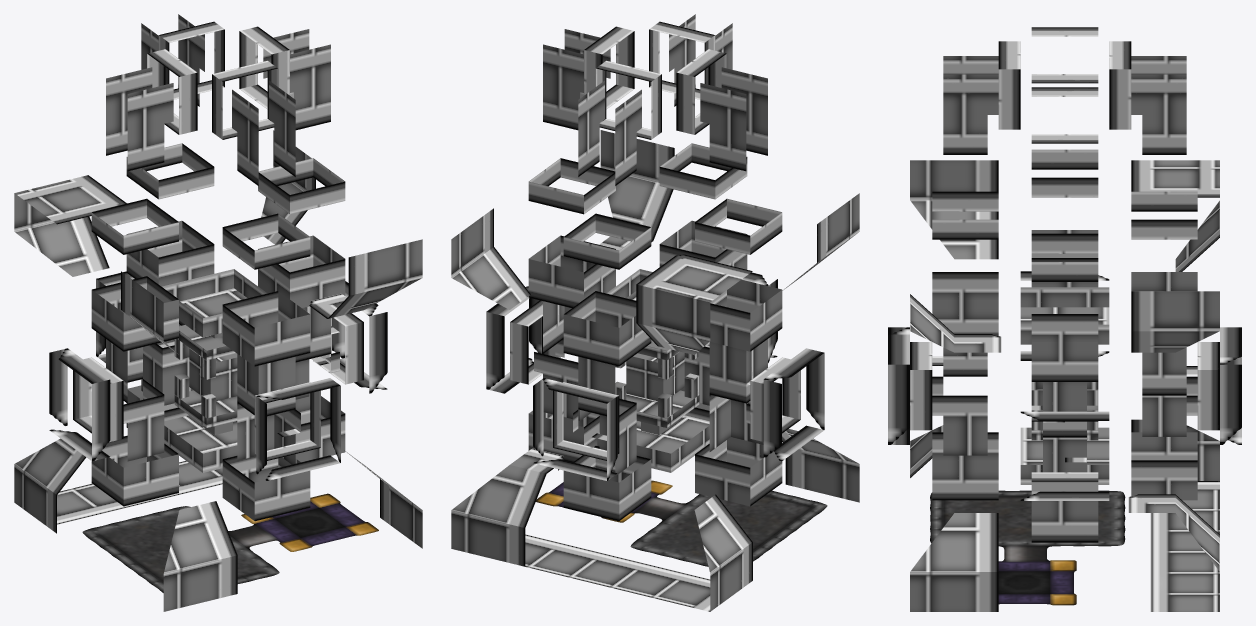
The model's file is arcane_terraformer.obj.
3 views of the same model, side by side, from view 1: azimuth 30°, elevation 25°; view 2: azimuth 150°, elevation 25°; view 3: azimuth 270°, elevation 25° (orthographic). The views are drawn at different scales.
Visible parts, largest first — view 1: Pipes_Cube.011, Body_Cube.031, Gem_Holder_Cube.002, Gem_Cube.005; view 2: Pipes_Cube.011, Body_Cube.031, Gem_Holder_Cube.002, Gem_Cube.005; view 3: Pipes_Cube.011, Body_Cube.031, Gem_Holder_Cube.002.
Part boxes in pixels (x1=…): Pipes_Cube.011: x1=49, y1=14, x2=387, y2=521; Body_Cube.031: x1=14, y1=130, x2=422, y2=611; Gem_Holder_Cube.002: x1=162, y1=269, x2=267, y2=472; Gem_Cube.005: x1=189, y1=348, x2=237, y2=401; Pipes_Cube.011: x1=486, y1=14, x2=824, y2=521; Body_Cube.031: x1=451, y1=130, x2=859, y2=611; Gem_Holder_Cube.002: x1=597, y1=269, x2=709, y2=472; Gem_Cube.005: x1=626, y1=351, x2=684, y2=401; Pipes_Cube.011: x1=888, y1=27, x2=1241, y2=542; Body_Cube.031: x1=910, y1=160, x2=1219, y2=611; Gem_Holder_Cube.002: x1=1020, y1=287, x2=1109, y2=484.
Bounding box in the file's own units: 1 × 1.56 × 1.
